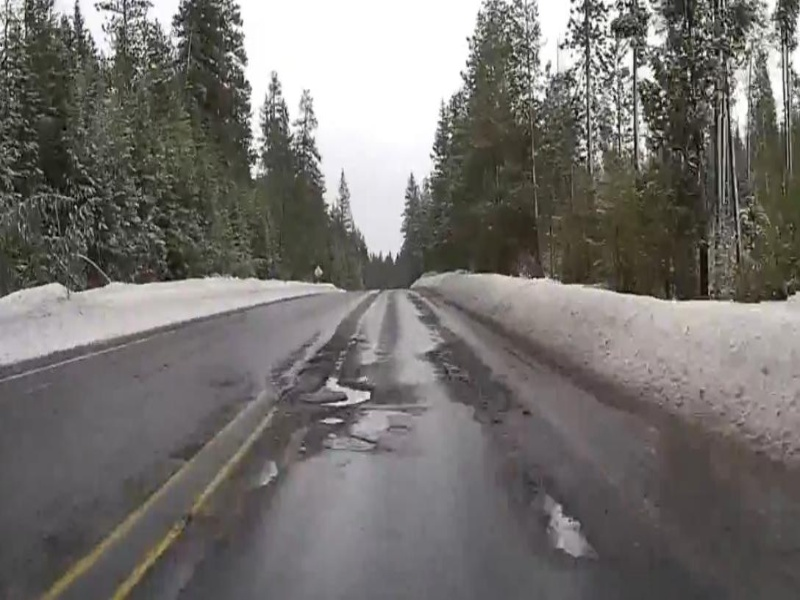pothole: (521, 486, 600, 568), (316, 372, 376, 410), (315, 413, 343, 427)
